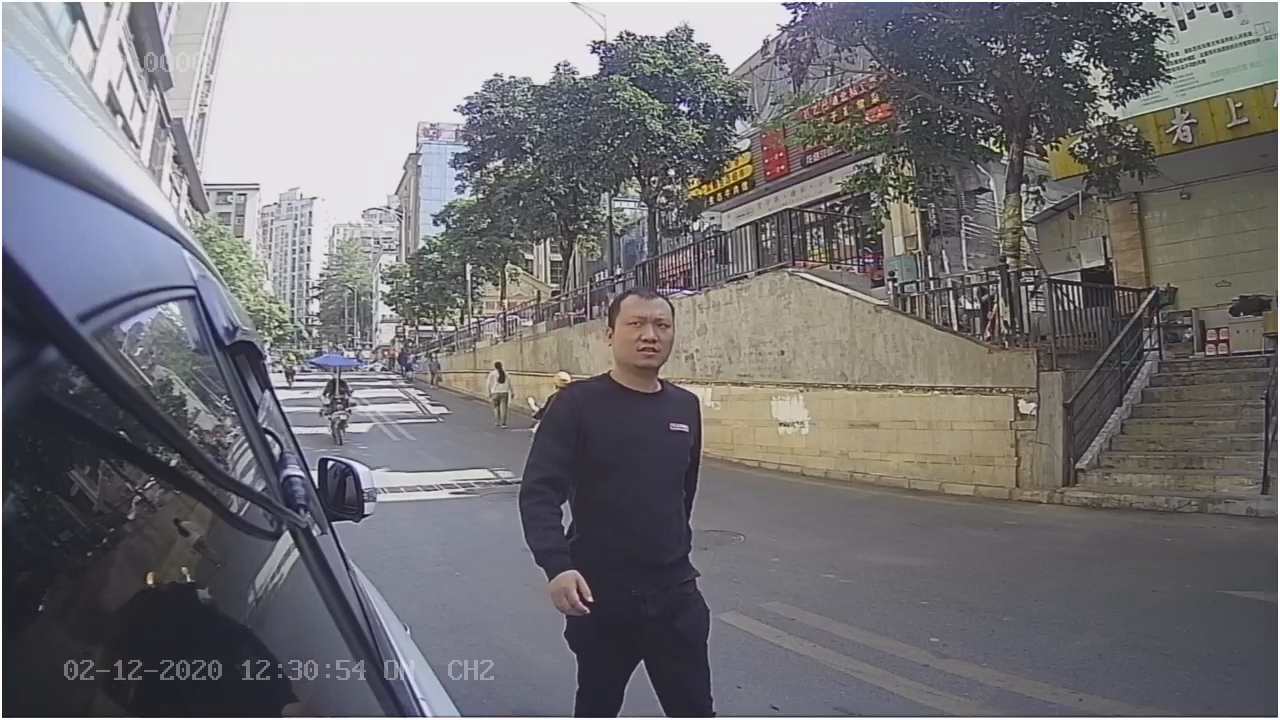person: (513, 282, 734, 617)
